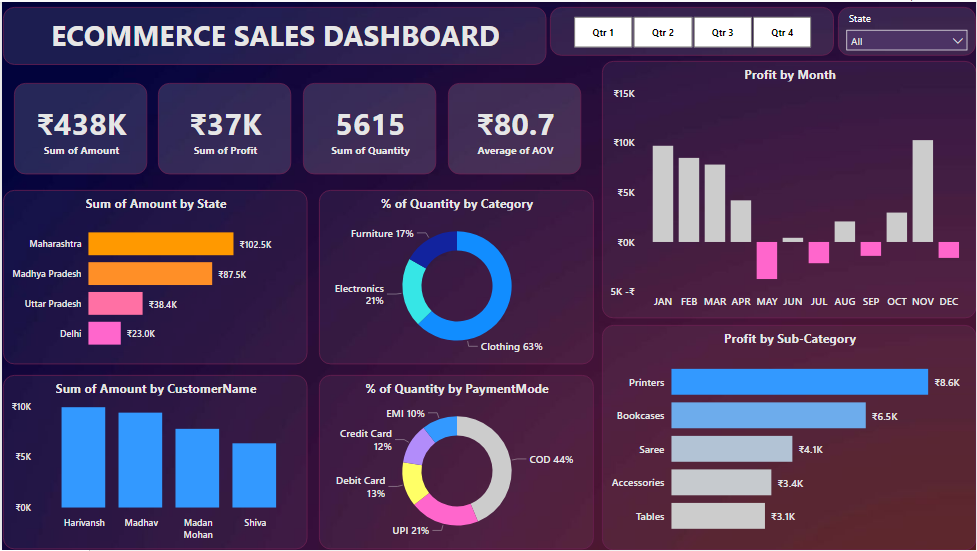

The dashboard page shown, as its layout file describes it:
{"tool":"powerbi","page":{"name":"Dashboard","canvas":[1280,720],"ordinal":0},"visuals":[{"type":"textbox","box":[1.4,7.1,714.3,76.4],"z":0,"group":"g1"},{"type":"columnChart","title":"Profit by Month","fields":{"Y":["Sum(Details.Profit)"],"Category":["Orders.Month"]},"box":[787.8,77.8,492.2,338],"z":1000,"group":"g1"},{"type":"barChart","title":"Profit by Sub-Category","fields":{"Category":["Details.Sub-Category"],"Y":["Sum(Details.Profit)","Sum(Details.Profit)"]},"box":[787.8,424.3,492.2,295.6],"z":2000,"group":"g1"},{"type":"donutChart","title":"% of Quantity by Category","fields":{"Category":["Details.Category"],"Y":["Sum(Details.Quantity)"]},"box":[417.2,247.5,360.7,229.1],"z":3000,"group":"g1"},{"type":"donutChart","title":"% of Quantity by PaymentMode","fields":{"Y":["Sum(Details.Quantity)"],"Category":["Details.PaymentMode"]},"box":[417.2,490.8,360.7,229.1],"z":4000,"group":"g1"},{"type":"card","fields":{"Values":["Sum(Details.Amount)"]},"box":[15.5,107.5,175.4,120.2],"z":5000,"group":"g1"},{"type":"card","fields":{"Values":["Sum(Details.Quantity)"]},"box":[395.5,107.5,175.4,120.2],"z":6000,"group":"g1"},{"type":"card","fields":{"Values":["Sum(Details.Profit)"]},"box":[205.5,107.5,175.4,120.2],"z":7000,"group":"g1"},{"type":"card","fields":{"Values":["Avg(Details.AOV)"]},"box":[585.5,107.5,175.4,120.2],"z":8000,"group":"g1"},{"type":"barChart","title":"Sum of Amount by State","fields":{"Category":["Orders.State"],"Y":["Sum(Details.Amount)"]},"box":[1.4,247.5,400.3,229.1],"z":9000,"group":"g1"},{"type":"columnChart","fields":{"Category":["Orders.CustomerName"],"Y":["Sum(Details.Amount)"]},"box":[1.4,490.8,400.3,229.1],"z":10000,"group":"g1"},{"type":"slicer","fields":{"Values":["Orders.Order Date.Variation.Date Hierarchy.Quarter"]},"box":[719.9,7.1,373.4,63.6],"z":11000,"group":"g1"},{"type":"slicer","fields":{"Values":["Orders.State"]},"box":[1098.9,7.1,181,63.6],"z":12000,"group":"g1"},{"type":"group","id":"g1","title":"Group 1","box":[1.4,7.1,1278.6,712.8],"z":12001}]}

Visuals, with their boxes in screenshot pixels (x1, y1, x2, y2), scaled from the page's 1280x720 canvas onto the 977x551 screenshot:
textbox: pyautogui.locateOnScreen(1, 5, 546, 64)
"Profit by Month" columnChart: pyautogui.locateOnScreen(601, 60, 976, 318)
"Profit by Sub-Category" barChart: pyautogui.locateOnScreen(601, 325, 976, 550)
"% of Quantity by Category" donutChart: pyautogui.locateOnScreen(318, 189, 594, 365)
"% of Quantity by PaymentMode" donutChart: pyautogui.locateOnScreen(318, 376, 594, 550)
card - Sum(Details.Amount): pyautogui.locateOnScreen(12, 82, 146, 174)
card - Sum(Details.Quantity): pyautogui.locateOnScreen(302, 82, 436, 174)
card - Sum(Details.Profit): pyautogui.locateOnScreen(157, 82, 291, 174)
card - Avg(Details.AOV): pyautogui.locateOnScreen(447, 82, 581, 174)
"Sum of Amount by State" barChart: pyautogui.locateOnScreen(1, 189, 307, 365)
columnChart - Orders.CustomerName x Sum(Details.Amount): pyautogui.locateOnScreen(1, 376, 307, 550)
slicer - Orders.Order Date.Variation.Date Hierarchy.Quarter: pyautogui.locateOnScreen(549, 5, 834, 54)
slicer - Orders.State: pyautogui.locateOnScreen(839, 5, 976, 54)
"Group 1" group: pyautogui.locateOnScreen(1, 5, 976, 550)
